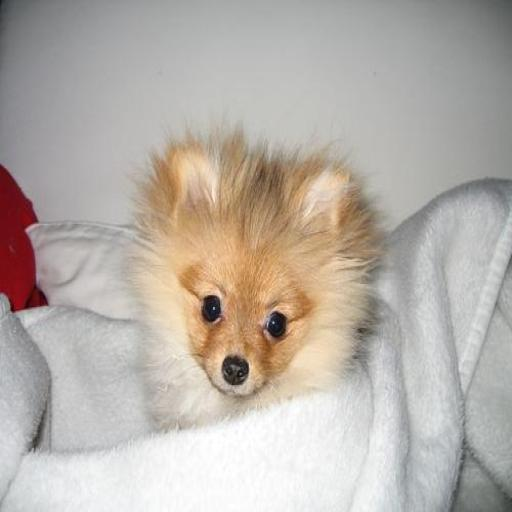dog_face: (154, 141, 342, 393)
